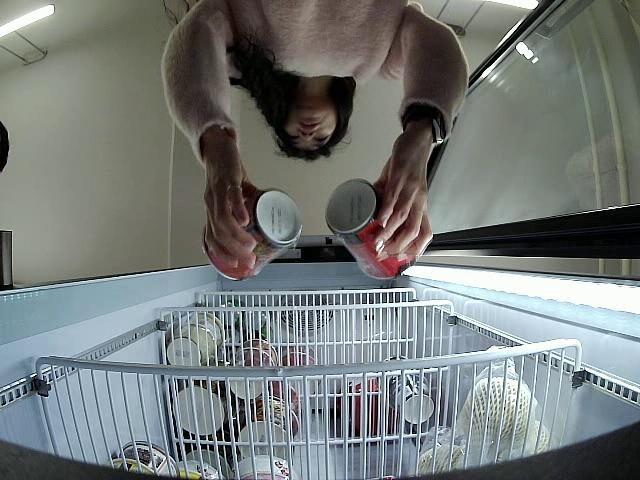02_shinRamen_S: (324, 176, 414, 278), (200, 188, 298, 278)
